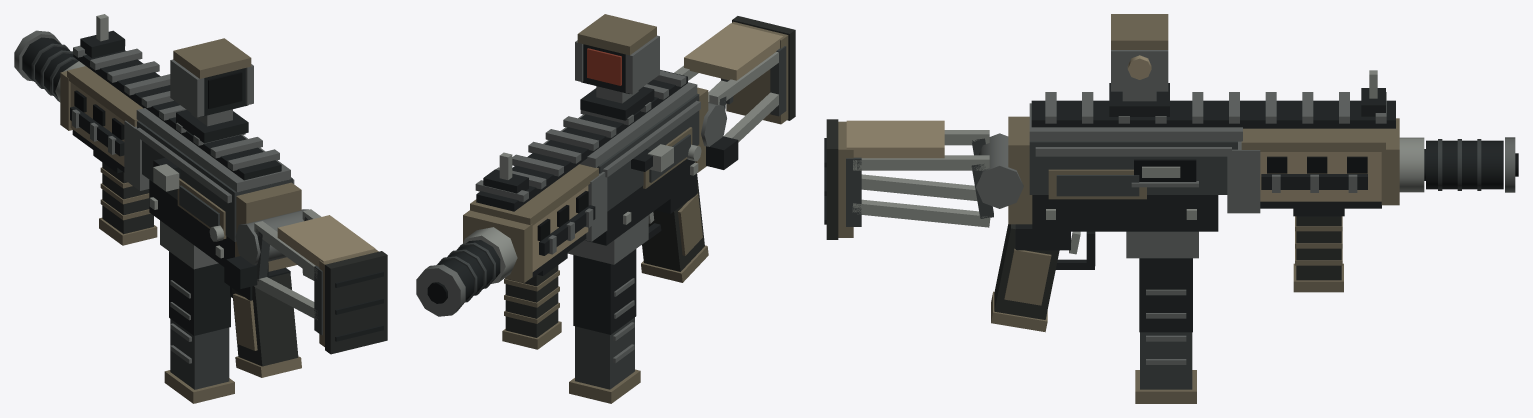
Rendered from smg9.glb.
3 renders of one model, left to right at view 1: azimuth 30°, elevation 25°; view 2: azimuth 150°, elevation 25°; view 3: azimuth 270°, elevation 25°, orthographic. The views are drawn at different scales.
Parts seen in each view (by area): view 1: Merged_material (×8); view 2: Merged_material (×8), Red dot front lens; view 3: Merged_material (×8).
Part boxes in pixels (<box>): Merged_material (×8): <box>14,14,387,403</box>; Merged_material (×8): <box>416,14,795,403</box>; Red dot front lens: <box>587,48,621,85</box>; Merged_material (×8): <box>824,14,1518,403</box>.
Bounding box in the file's own units: 0.1285 × 0.473 × 0.8135.
